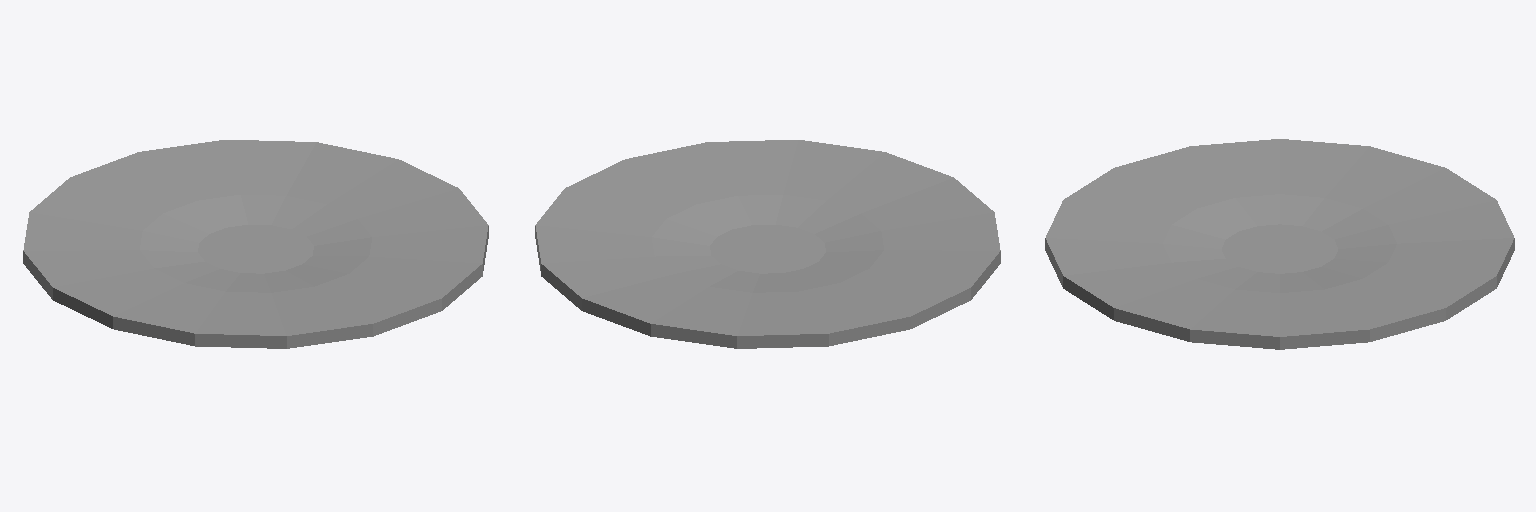
File: plate.obj
3 renders of one model, left to right at view 1: azimuth 30°, elevation 25°; view 2: azimuth 150°, elevation 25°; view 3: azimuth 270°, elevation 25°, orthographic.
Visible parts, largest first — view 1: plate; view 2: plate; view 3: plate.
Part boxes in pixels (x1,y1,x2,y2): plate: (23, 140, 488, 348); plate: (535, 140, 1000, 348); plate: (1045, 139, 1514, 349).
Bounding box in the file's own units: 1 × 0.0851 × 1.